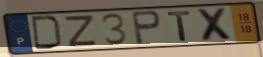3: (101, 12, 129, 47)
D: (29, 15, 65, 51)
P: (130, 9, 164, 46)
T: (166, 10, 194, 42)
X: (194, 6, 236, 42)
Z: (64, 14, 100, 49)
